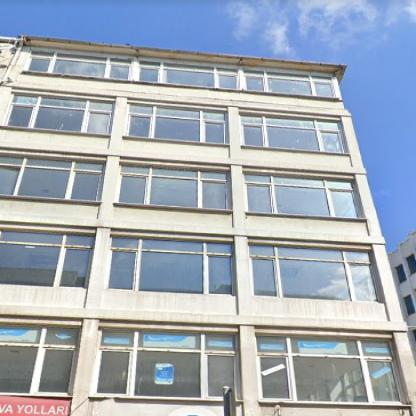window: (23, 48, 336, 96), (255, 335, 403, 401), (94, 330, 235, 398), (250, 244, 378, 301), (108, 235, 234, 292), (2, 325, 81, 393), (2, 230, 96, 286), (245, 173, 363, 217), (2, 154, 107, 201), (123, 165, 230, 209), (4, 92, 114, 134), (242, 114, 349, 154), (126, 102, 227, 142)
